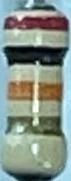Black: (2, 45, 68, 68)
Orange: (8, 80, 62, 103)
Red: (4, 15, 70, 31)
Side-Gold: (4, 115, 66, 138)
